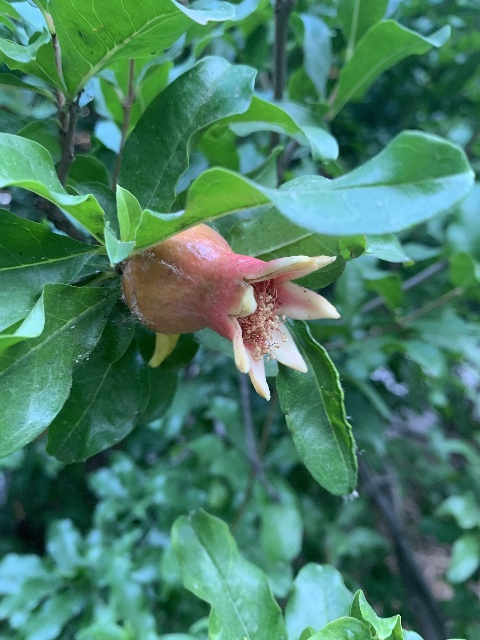early-fruit: (124, 222, 342, 400)
